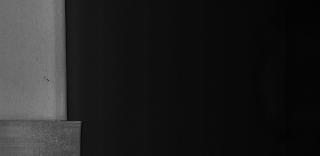welding line: (2, 117, 86, 125)
